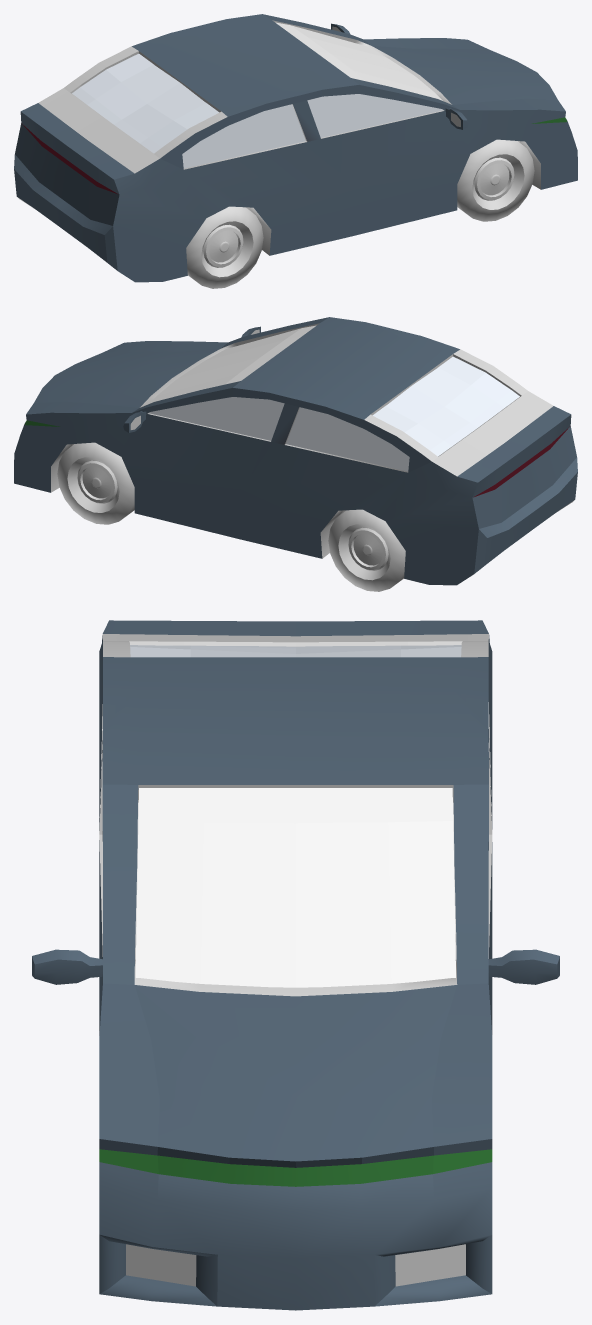
Rendered from Vehicle-HybridCar_01.fbx.
3 views of the same model, one above another, from view 1: azimuth 30°, elevation 25°; view 2: azimuth 150°, elevation 25°; view 3: azimuth 270°, elevation 25° (orthographic). The views are drawn at different scales.
Parts seen in each view (by area): view 1: Body, Windows, Interior, Wheel_FR, Wheel_BR, WheelRim_BR, WheelRim_FR, SecondaryColour, Lights; view 2: Body, Windows, Interior, Wheel_LF, Wheel_BL, WheelRim_BL, WheelRim_LF, SecondaryColour, Lights; view 3: Body, Windows, Interior, Lights, SecondaryColour.
Part boxes in pixels (<box>): Body: <box>14,14,577,282</box>; Windows: <box>72,22,443,168</box>; Interior: <box>38,20,451,173</box>; Wheel_FR: <box>457,139,534,221</box>; Wheel_BR: <box>186,206,263,288</box>; WheelRim_BR: <box>201,221,253,277</box>; WheelRim_FR: <box>472,154,524,209</box>; SecondaryColour: <box>17,141,540,255</box>; Lights: <box>21,117,567,194</box>; Body: <box>14,317,577,585</box>; Windows: <box>148,325,519,471</box>; Interior: <box>140,323,553,476</box>; Wheel_LF: <box>57,442,134,524</box>; Wheel_BL: <box>328,509,405,591</box>; WheelRim_BL: <box>338,524,390,580</box>; WheelRim_LF: <box>67,457,119,512</box>; SecondaryColour: <box>51,444,574,558</box>; Lights: <box>24,420,570,497</box>; Body: <box>32,620,559,1310</box>; Windows: <box>130,645,461,987</box>; Interior: <box>99,634,492,996</box>; Lights: <box>99,1149,492,1186</box>; SecondaryColour: <box>126,1244,465,1286</box>.
Bounding box in the file's own units: 4.5 × 1.55 × 2.1.
